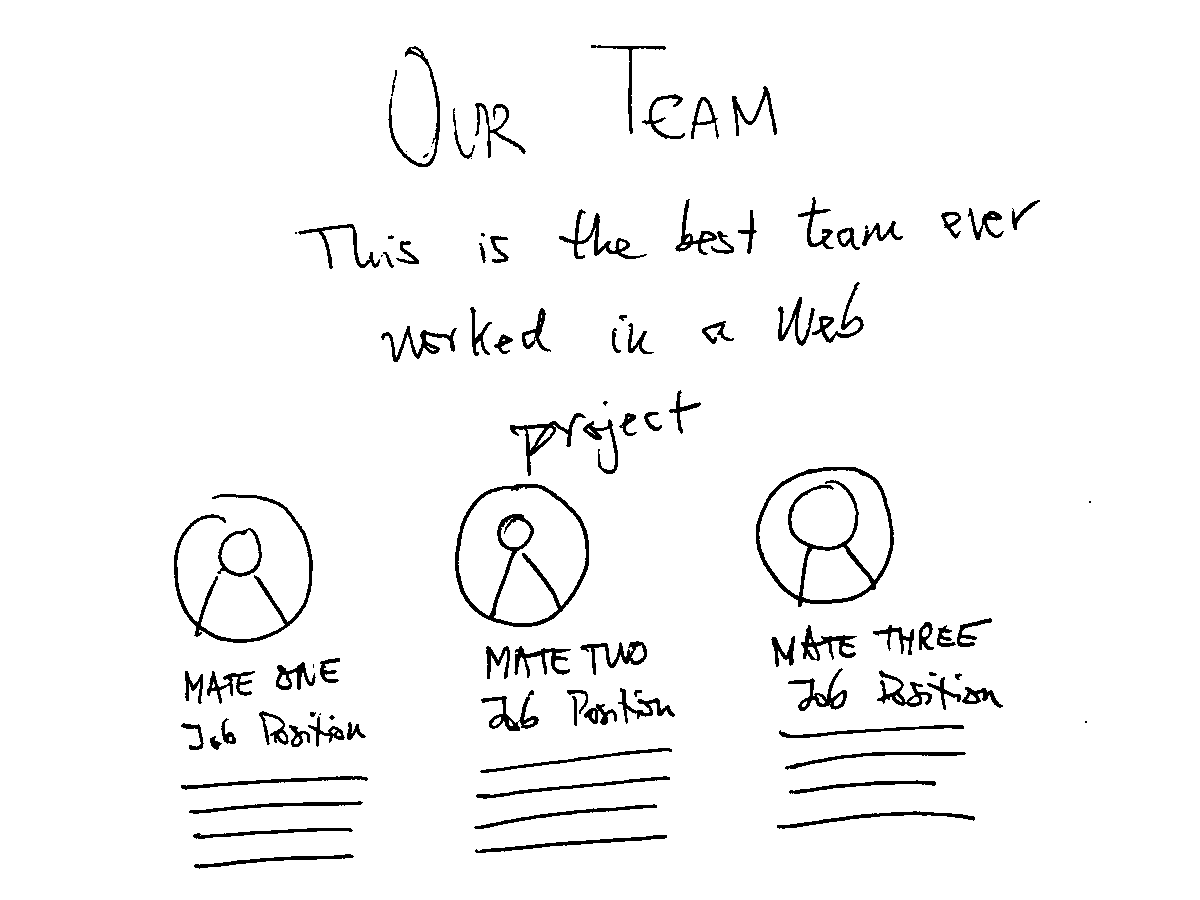Paragraph: (467, 745, 680, 856), (770, 723, 974, 837), (177, 770, 370, 869)
